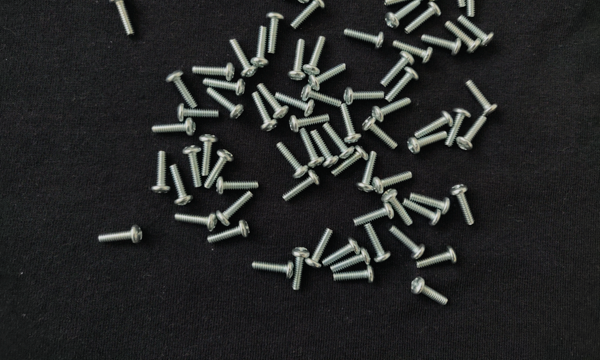shortscrew: (216, 192, 254, 227), (206, 87, 245, 120), (331, 144, 370, 176), (386, 67, 420, 103), (362, 117, 398, 151), (382, 50, 415, 87), (277, 142, 309, 180), (167, 70, 198, 109), (205, 149, 235, 189), (258, 84, 290, 121), (282, 170, 320, 201), (230, 39, 259, 79), (467, 81, 499, 117), (323, 123, 355, 159), (402, 199, 443, 227), (305, 228, 333, 269), (382, 190, 413, 227), (411, 277, 449, 307), (353, 201, 395, 228), (391, 227, 425, 260), (446, 22, 481, 54), (459, 16, 494, 47), (290, 0, 326, 30), (385, 0, 421, 30), (365, 224, 392, 264), (309, 63, 346, 92), (445, 108, 471, 149), (252, 92, 278, 133), (311, 130, 339, 168), (322, 238, 360, 266), (456, 116, 486, 151), (414, 111, 454, 137), (208, 220, 251, 244), (450, 185, 475, 226), (371, 98, 411, 123), (331, 248, 371, 273), (393, 41, 434, 65), (407, 131, 448, 155), (276, 93, 316, 117), (415, 246, 458, 268), (97, 225, 142, 246), (411, 193, 452, 216), (356, 151, 377, 195), (303, 36, 326, 76), (182, 145, 203, 188), (372, 172, 413, 194), (110, 0, 135, 36), (301, 86, 341, 108), (344, 28, 385, 49), (422, 35, 462, 56), (344, 88, 385, 108), (176, 212, 217, 232), (288, 113, 329, 133), (341, 105, 362, 144), (152, 151, 171, 194), (291, 247, 310, 290), (203, 77, 246, 96), (199, 134, 218, 176), (152, 118, 196, 136), (192, 63, 236, 81), (267, 11, 285, 54), (252, 261, 295, 279), (251, 26, 269, 68), (217, 177, 259, 195), (334, 266, 375, 284), (289, 39, 306, 82), (178, 104, 220, 121), (462, 0, 479, 17), (384, 0, 426, 6), (447, 0, 466, 8), (294, 0, 324, 3), (425, 0, 448, 2)
